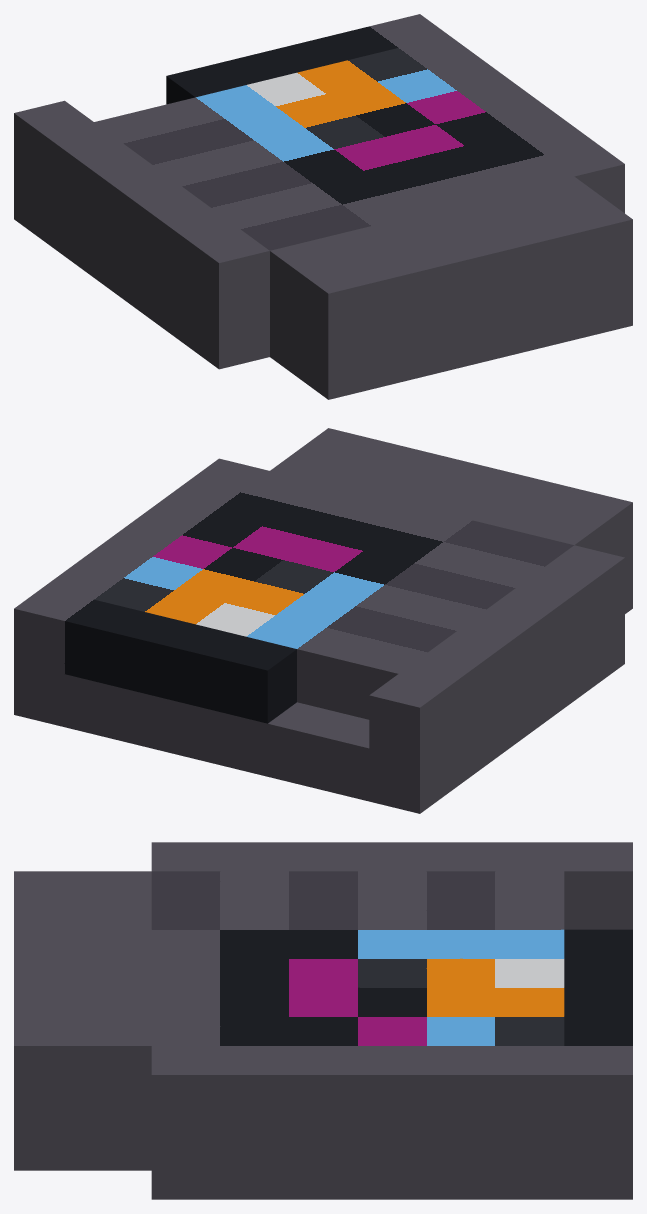
The model's file is cart01.fbx.
3 views of the same model, one above another, from view 1: azimuth 30°, elevation 25°; view 2: azimuth 150°, elevation 25°; view 3: azimuth 270°, elevation 25° (orthographic). The views are drawn at different scales.
Parts seen in each view (by area): view 1: cart01; view 2: cart01; view 3: cart01.
Boxes of the visible parts, <box> form: cart01: <box>14,14,632,399</box>; cart01: <box>14,428,632,813</box>; cart01: <box>14,842,632,1199</box>.
Bounding box in the file's own units: 8 × 2 × 9.
